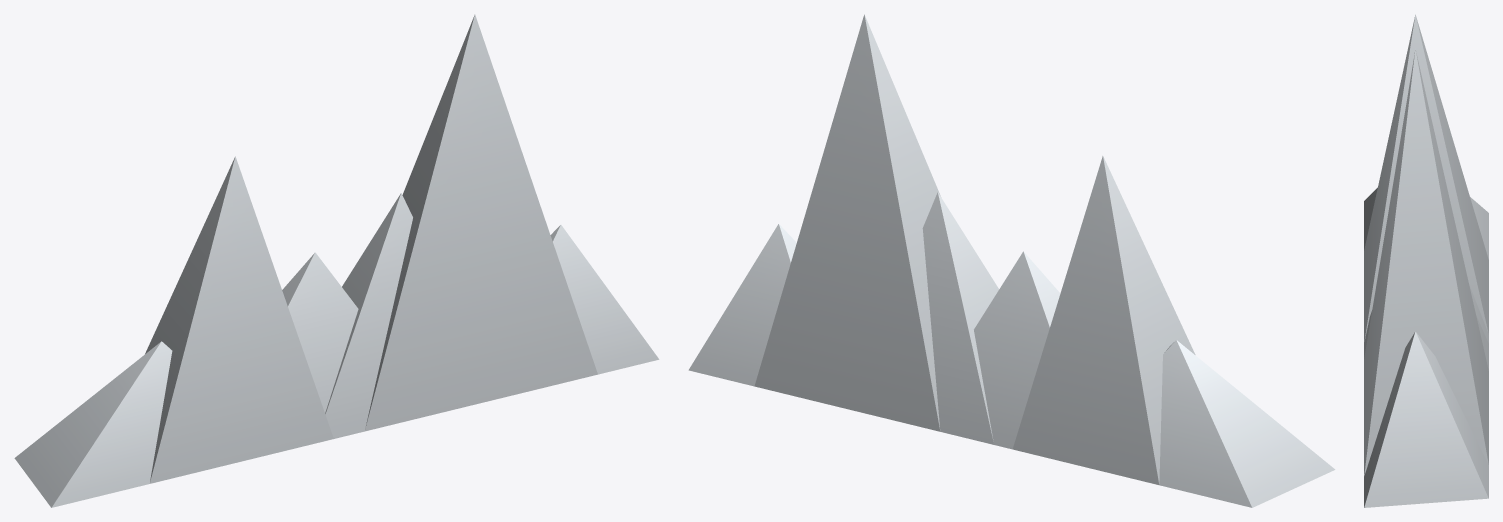
The model's file is MountainRidgeB.fbx.
The picture shows the model from 3 angles, left to right: view 1: azimuth 30°, elevation 25°; view 2: azimuth 150°, elevation 25°; view 3: azimuth 270°, elevation 25°; orthographic projection. The views are drawn at different scales.
Visible parts, largest first — view 1: MountainRidgeB; view 2: MountainRidgeB; view 3: MountainRidgeB.
Boxes of the visible parts, x1,y1,x2,y2 form: MountainRidgeB: [14, 14, 659, 507]; MountainRidgeB: [688, 14, 1335, 507]; MountainRidgeB: [1364, 14, 1488, 507].
Size of the model in its own units: 99 by 57 by 17.
Materials: 1 (1 with a texture image).
